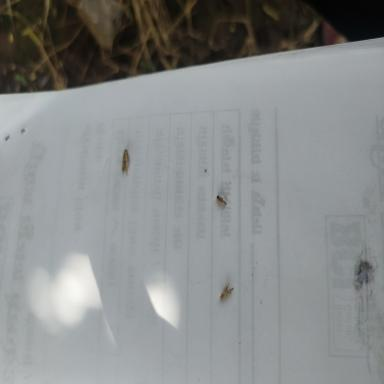pbw: (220, 284, 234, 300), (122, 149, 130, 173), (216, 195, 226, 204)
